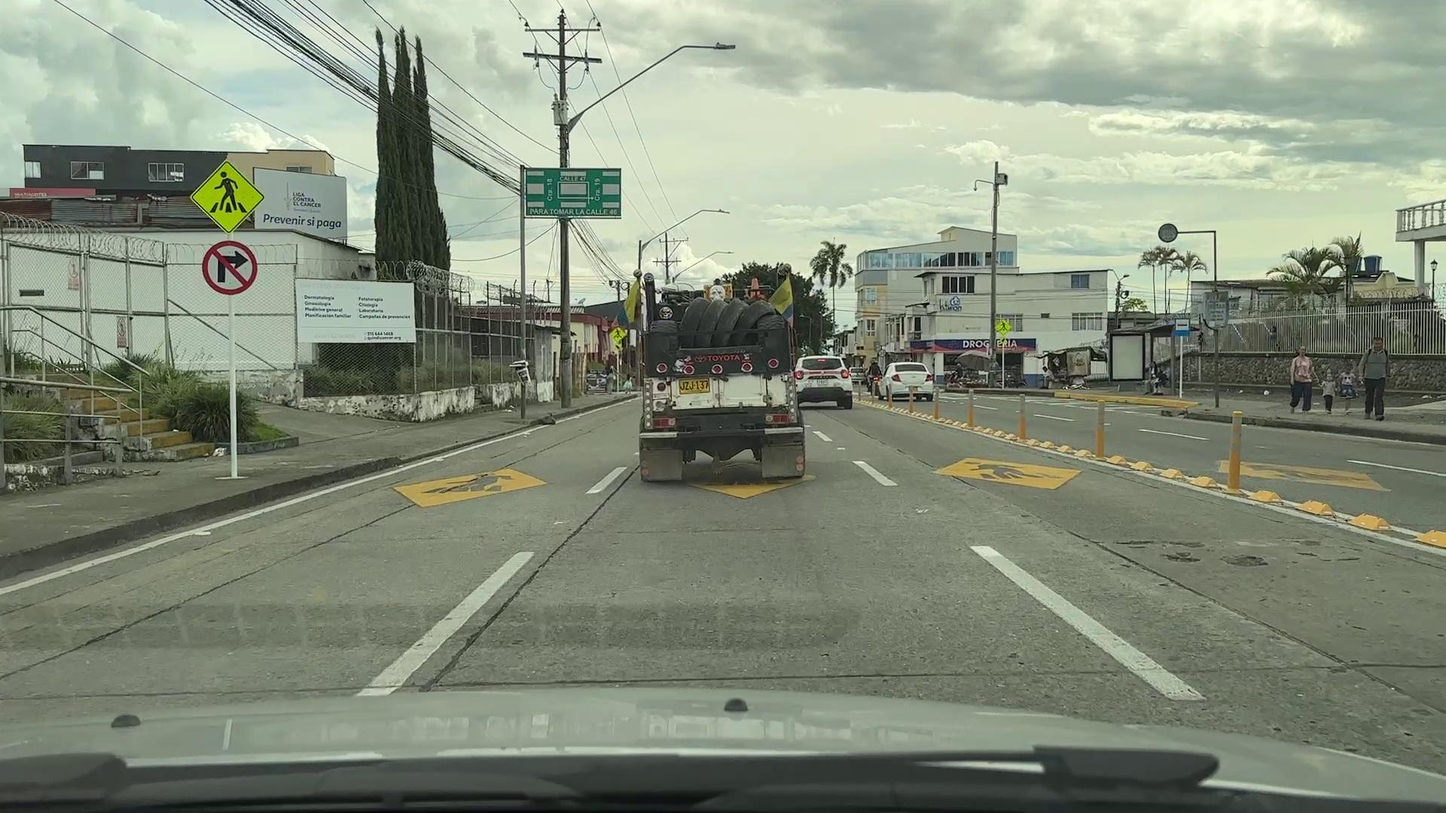bache: (1225, 555, 1268, 566), (1166, 552, 1200, 562), (1166, 541, 1204, 548), (1117, 540, 1154, 544)
grieta: (1064, 530, 1345, 664)
